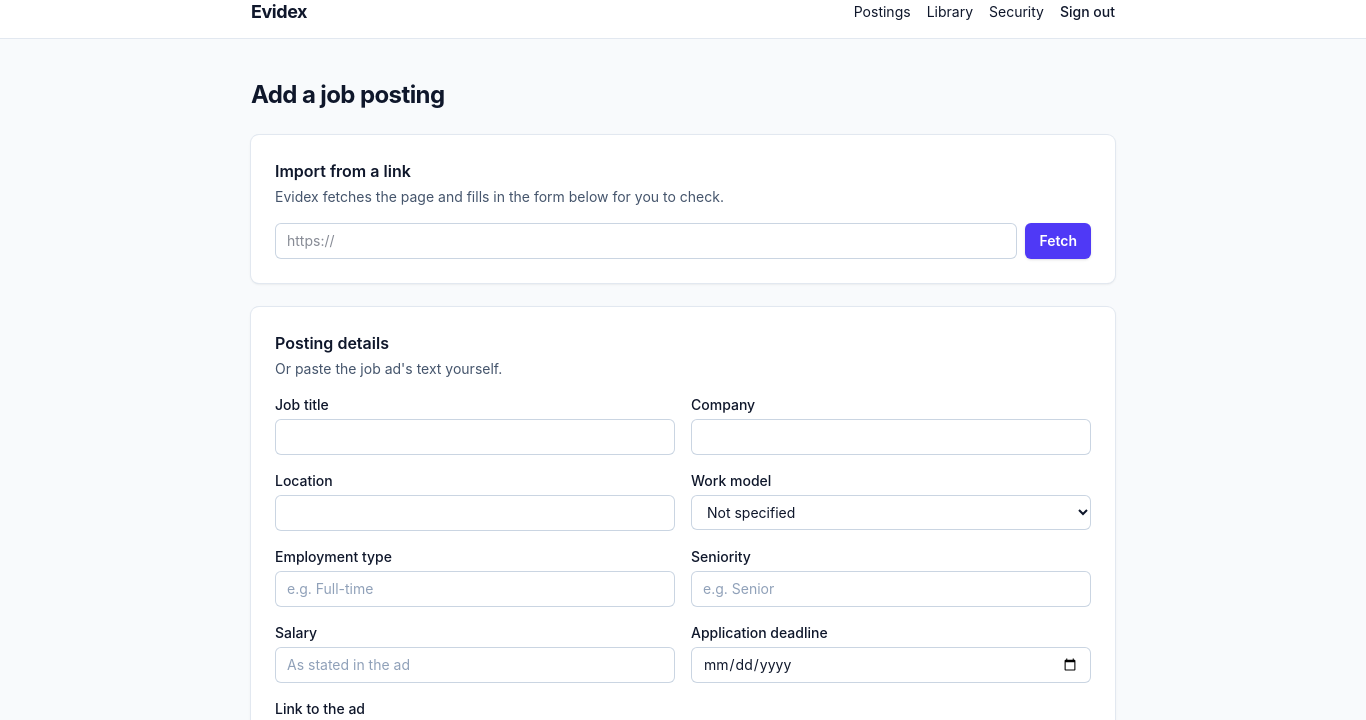
Job postings › saves a pasted posting and opens it
Type "Senior Rails Developer" into the field labelled "Job title" at (475, 437), box [275,419,675,455]
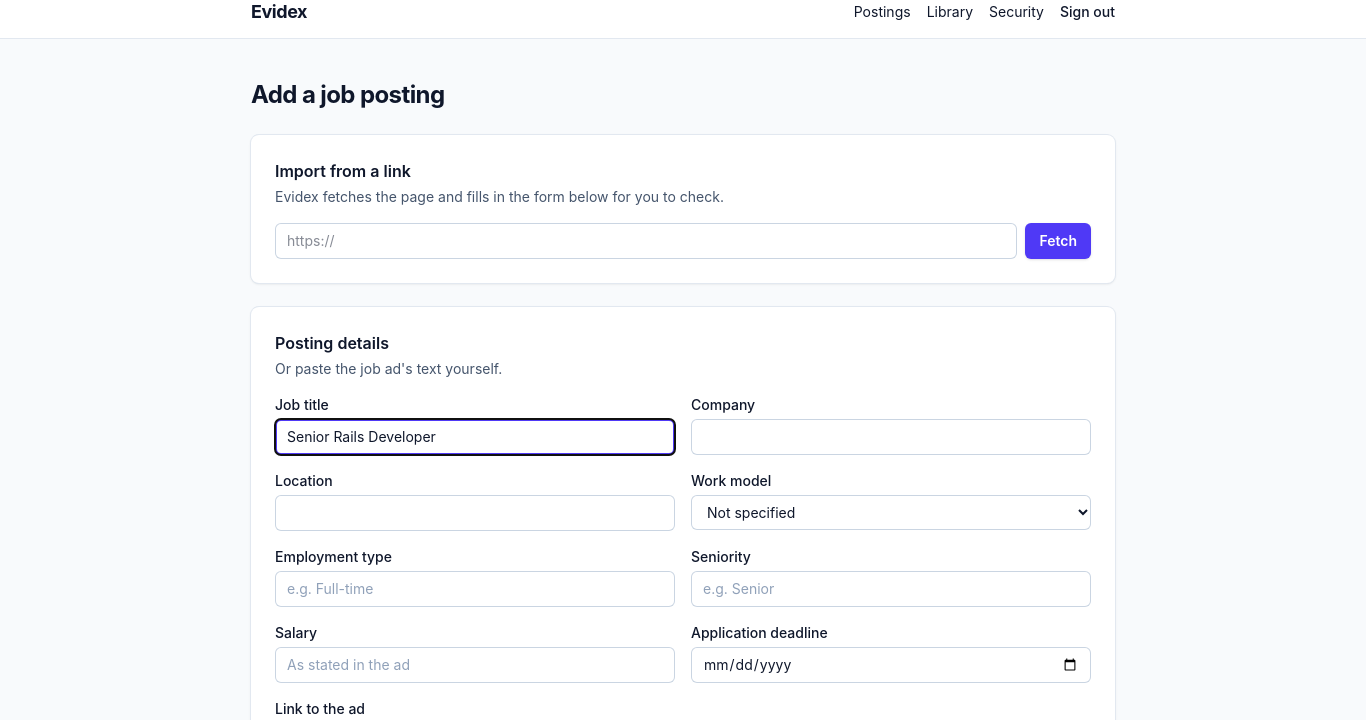
Type "Acme Oy" into the field labelled "Company" at (891, 437), box [691,419,1091,455]
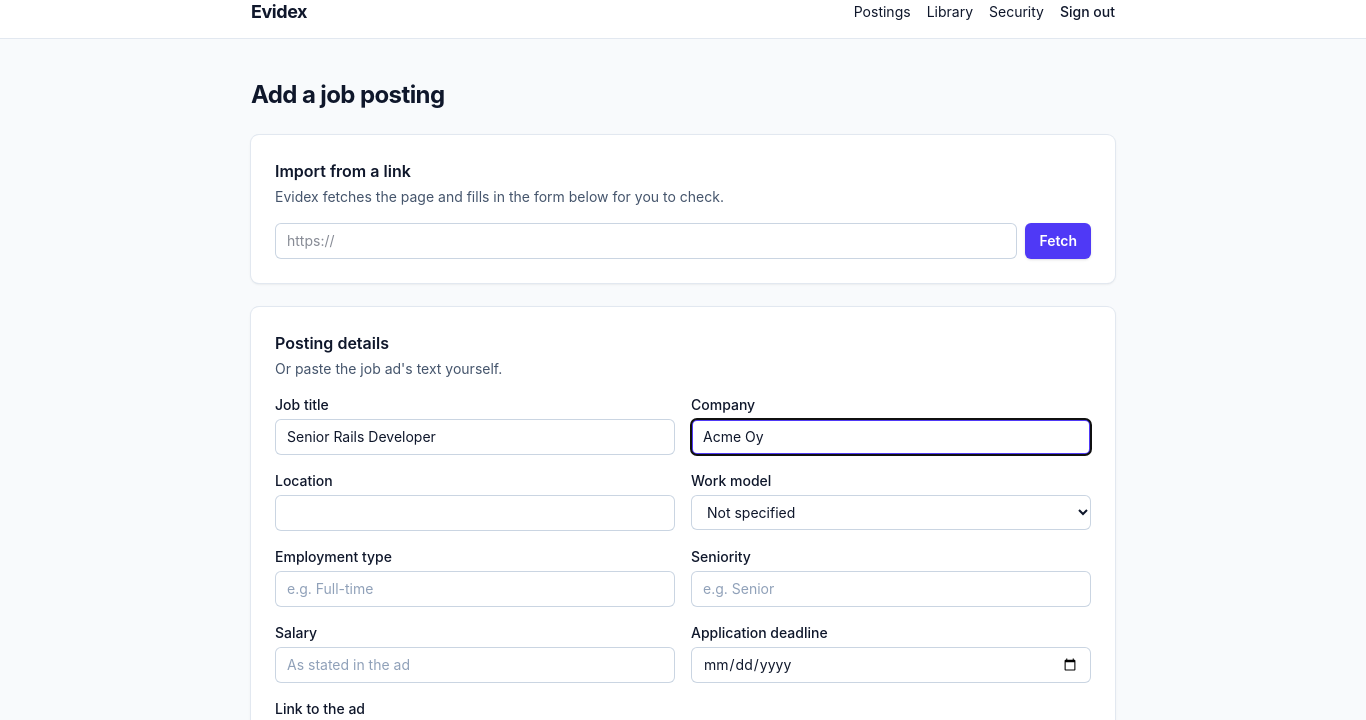
Select "Hybrid" in the dropdown labelled "Work model" at (891, 512), box [691,495,1091,530]
(page scrolled)
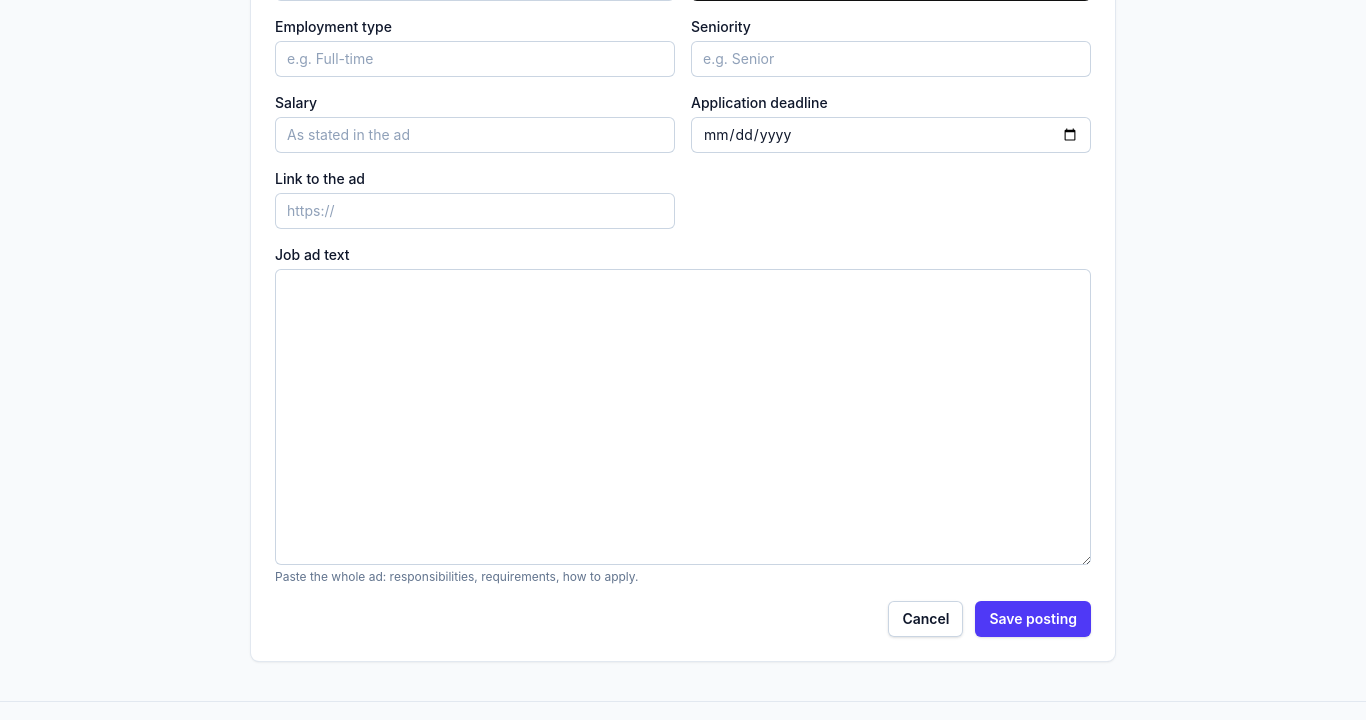
Type "Build APIs." into the text box labelled "Job ad text" at (683, 417), box [275,269,1091,565]
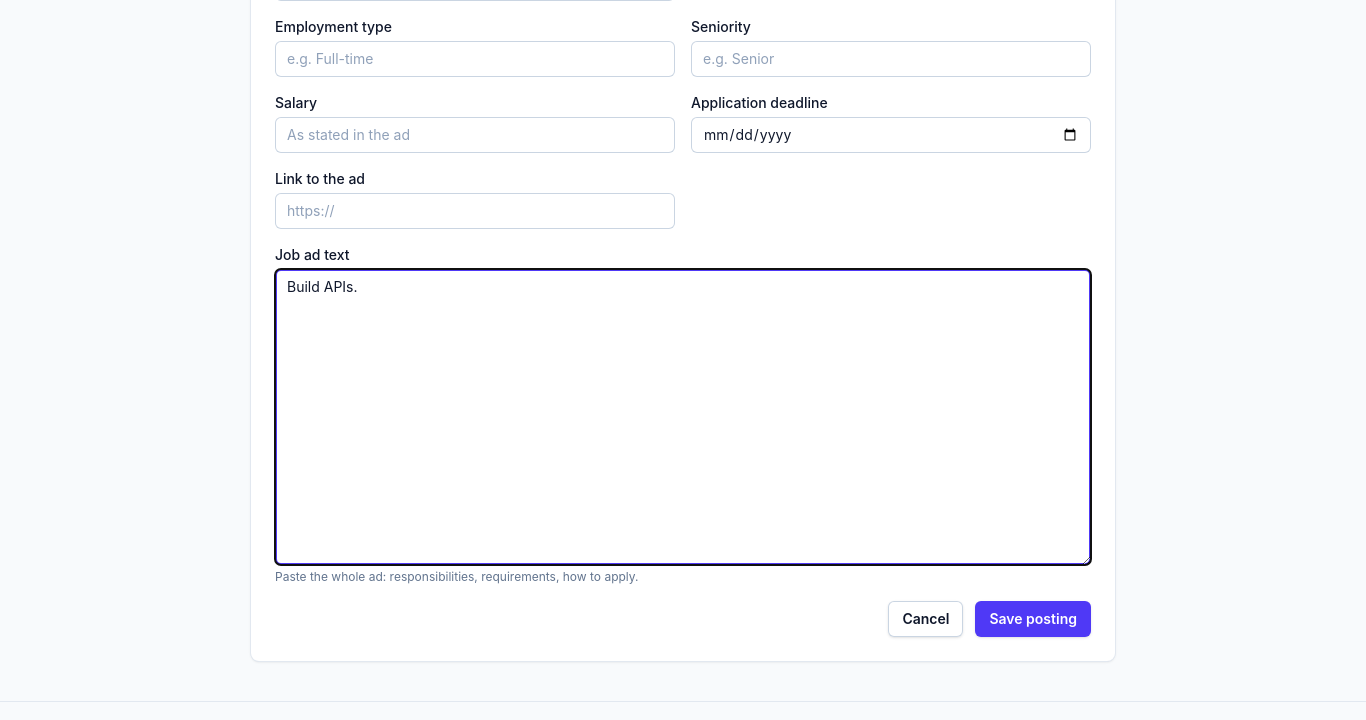
Click the button "Save posting" at (1033, 619), box [975,601,1091,637]
(page scrolled)
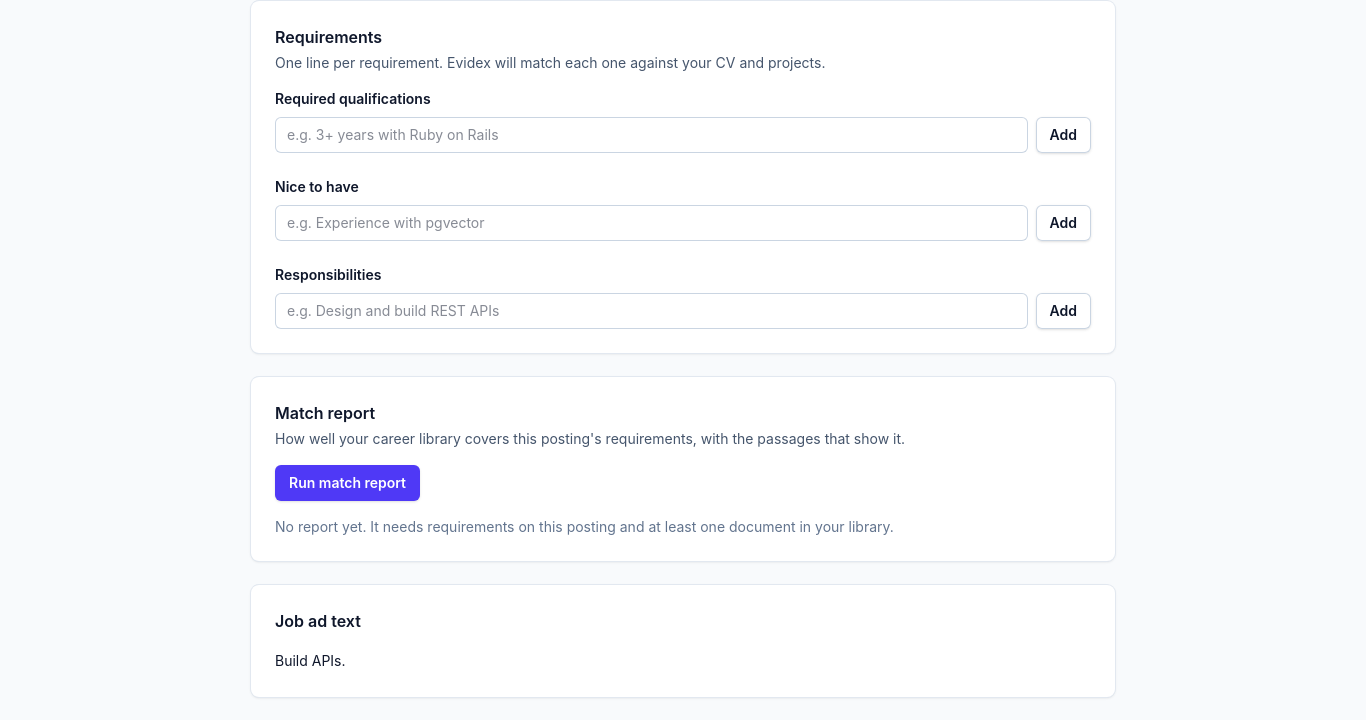
Result: the text "Build APIs." is shown at [275,652,346,669]
